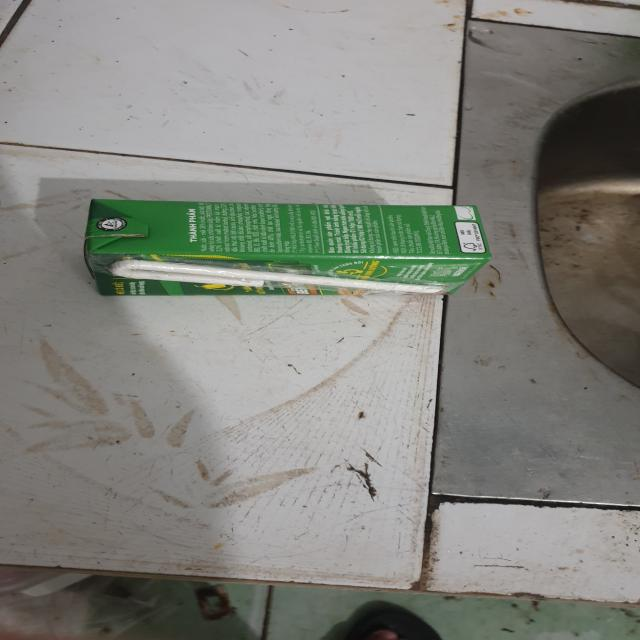Milo: (83, 200, 495, 300)
